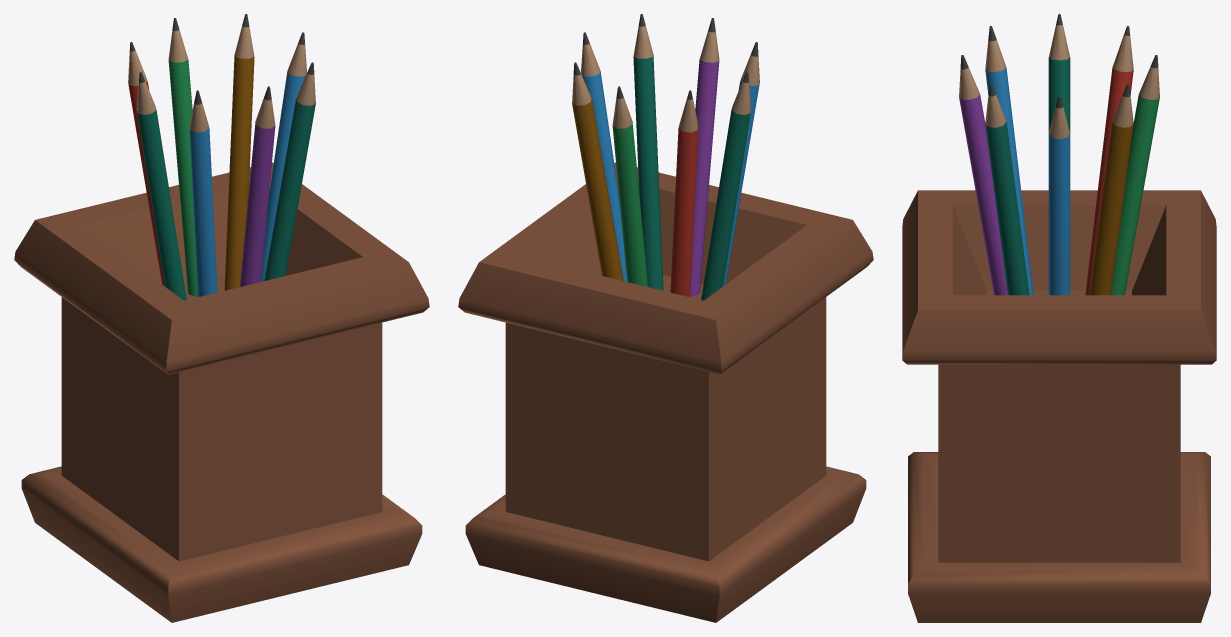
File: Pencil-Case.fbx
3 renders of one model, left to right at view 1: azimuth 30°, elevation 25°; view 2: azimuth 150°, elevation 25°; view 3: azimuth 270°, elevation 25°, orthographic. The views are drawn at different scales.
Visible parts, largest first — view 1: Pencil-Case, Pencil.007, Pencil.003, Pencil.000, Pencil.002, Pencil.006, Pencil.004, Pencil.001, Pencil.005; view 2: Pencil-Case, Pencil.003, Pencil.007, Pencil.000, Pencil.004, Pencil.005, Pencil.002, Pencil.001, Pencil.006; view 3: Pencil-Case, Pencil.003, Pencil.007, Pencil.002, Pencil.004, Pencil.001, Pencil.005, Pencil.006, Pencil.000.
Part boxes in pixels (x1=…): Pencil-Case: x1=14, y1=162, x2=429, y2=622; Pencil.007: x1=224, y1=14, x2=254, y2=290; Pencil.003: x1=264, y1=62, x2=315, y2=280; Pencil.000: x1=136, y1=72, x2=186, y2=300; Pencil.002: x1=168, y1=18, x2=197, y2=296; Pencil.006: x1=189, y1=90, x2=217, y2=297; Pencil.004: x1=240, y1=86, x2=275, y2=286; Pencil.001: x1=260, y1=32, x2=306, y2=281; Pencil.005: x1=128, y1=42, x2=164, y2=286; Pencil-Case: x1=458, y1=162, x2=873, y2=622; Pencil.003: x1=633, y1=14, x2=663, y2=290; Pencil.007: x1=572, y1=62, x2=623, y2=280; Pencil.000: x1=701, y1=72, x2=751, y2=300; Pencil.004: x1=690, y1=18, x2=719, y2=296; Pencil.005: x1=670, y1=90, x2=698, y2=297; Pencil.002: x1=612, y1=86, x2=647, y2=286; Pencil.001: x1=581, y1=32, x2=627, y2=281; Pencil.006: x1=723, y1=42, x2=759, y2=286; Pencil-Case: x1=902, y1=190, x2=1216, y2=622; Pencil.003: x1=985, y1=83, x2=1029, y2=295; Pencil.007: x1=1089, y1=83, x2=1133, y2=295; Pencil.002: x1=1111, y1=55, x2=1159, y2=295; Pencil.004: x1=959, y1=55, x2=1007, y2=295; Pencil.001: x1=1048, y1=95, x2=1070, y2=295; Pencil.005: x1=1085, y1=26, x2=1133, y2=295; Pencil.006: x1=985, y1=26, x2=1033, y2=295; Pencil.000: x1=1048, y1=14, x2=1070, y2=132.
Size of the model in its own units: 0.081 by 0.1443 by 0.081.
